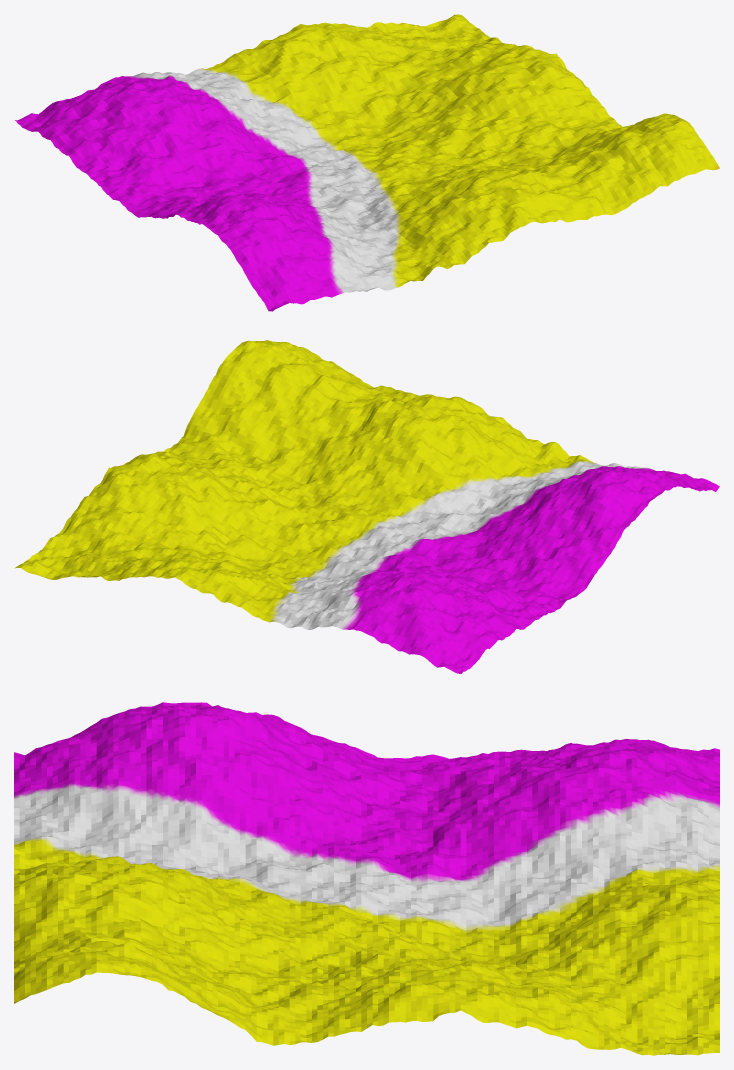
Rendered from mod_terrain_colored.fbx.
3 views of the same model, one above another, from view 1: azimuth 30°, elevation 25°; view 2: azimuth 150°, elevation 25°; view 3: azimuth 270°, elevation 25° (orthographic). The views are drawn at different scales.
Visible parts, largest first — view 1: Plane; view 2: Plane; view 3: Plane.
Boxes of the visible parts, left/top/right/bottom form: Plane: left=15, top=14, right=719, bottom=311; Plane: left=14, top=340, right=719, bottom=673; Plane: left=14, top=702, right=719, bottom=1055.
Bounding box in the file's own units: 4000 × 4000 × 673.
